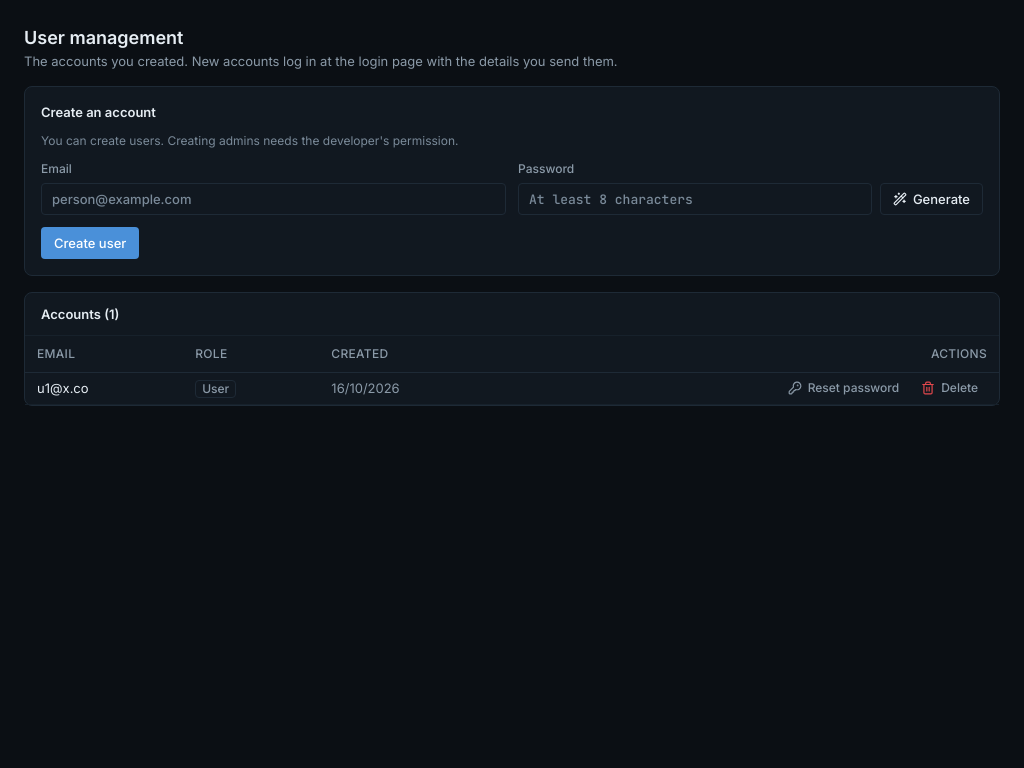
Test: UserManagementPage › resets a password and shows the new one to send
Click the button with aria-label "Reset password for u1@x.co": [843, 388] box [779,374,908,402]
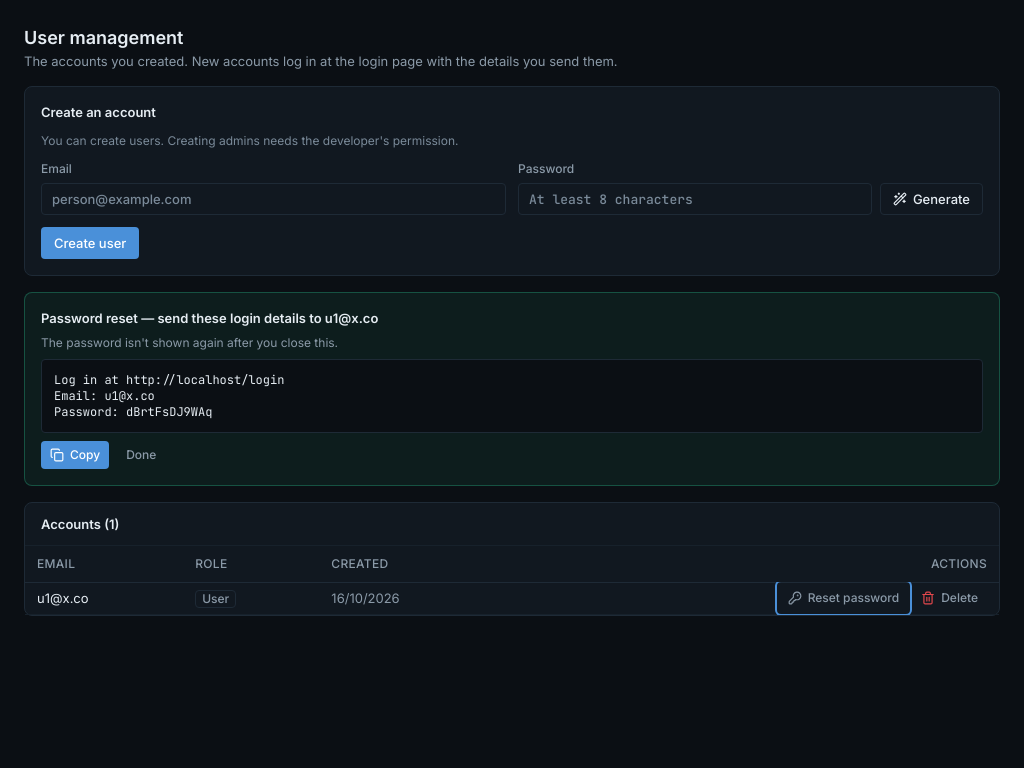
Now the message shows "Password reset — send these login details to u1@x.co", box [24,292,1000,486]
